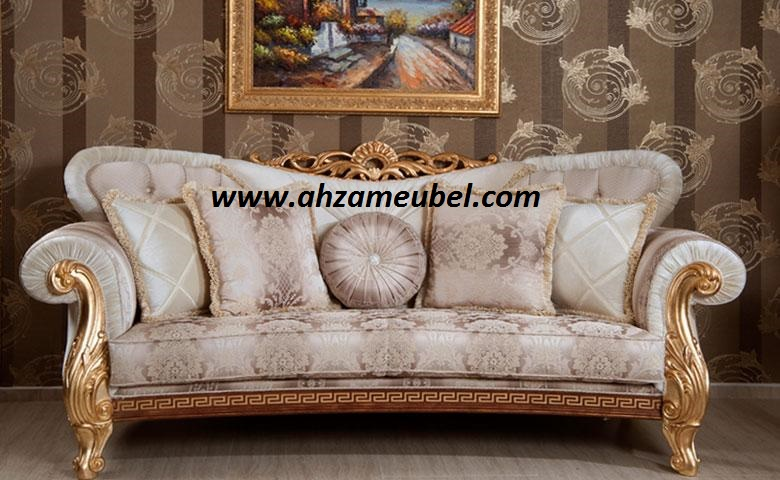Carving Chair: (38, 138, 719, 480)
